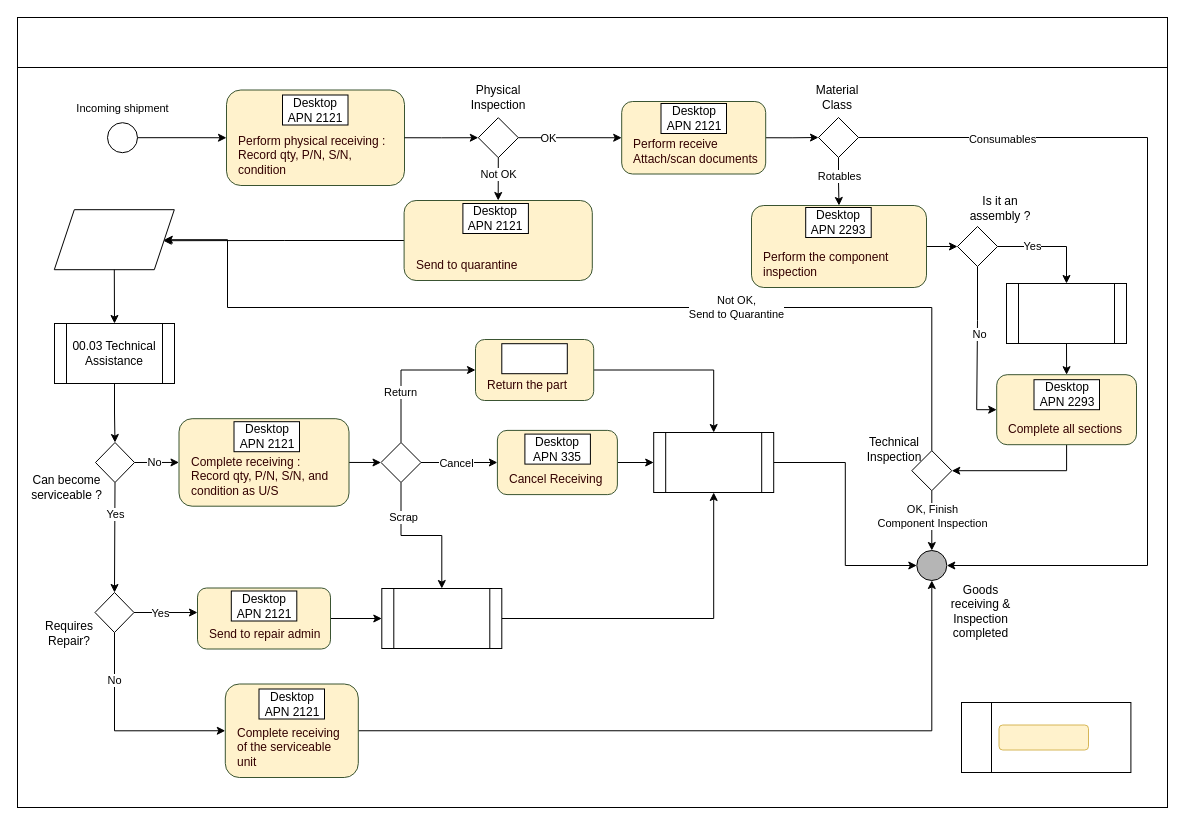
Some shapes in this 1185 by 825 pixel diagram are drawn without their labels. The shapes that lost their labels are listed below. From the top down, each one's centre as x and y in pixels, then its label:
the point at 592,42: 10.02 Goods Receiving & Inspection
the point at 122,137: Start
the point at 113,239: Technical Query (issue Compliant)
the point at 1066,313: 10.03 Major Assemblies
the point at 534,358: Desktop APN 2015
the point at 713,462: 10.01 Logistics
the point at 931,565: End
the point at 441,618: 09.04 - Repair & Exhcanges
the point at 976,737: LEGEND
the point at 1043,737: Stores
